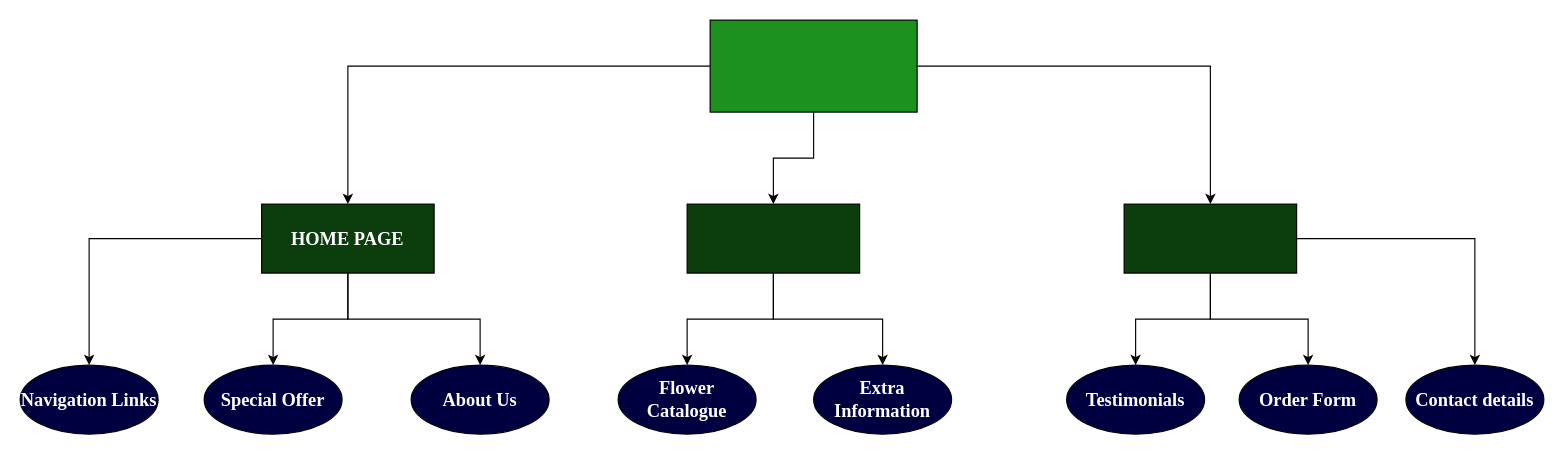
Image size: 1564x454. Some labels were removed from this diagram. The shapes that lost their labels are listed below. From the top down, each one's box as (x1, y1, x2, y2) in pixels, then its label:
(709, 19, 917, 112): BUSY BEE FLORIST WEBSITE
(686, 203, 860, 273): GALLERY PAGE
(1123, 203, 1297, 273): CONTACT PAGE
